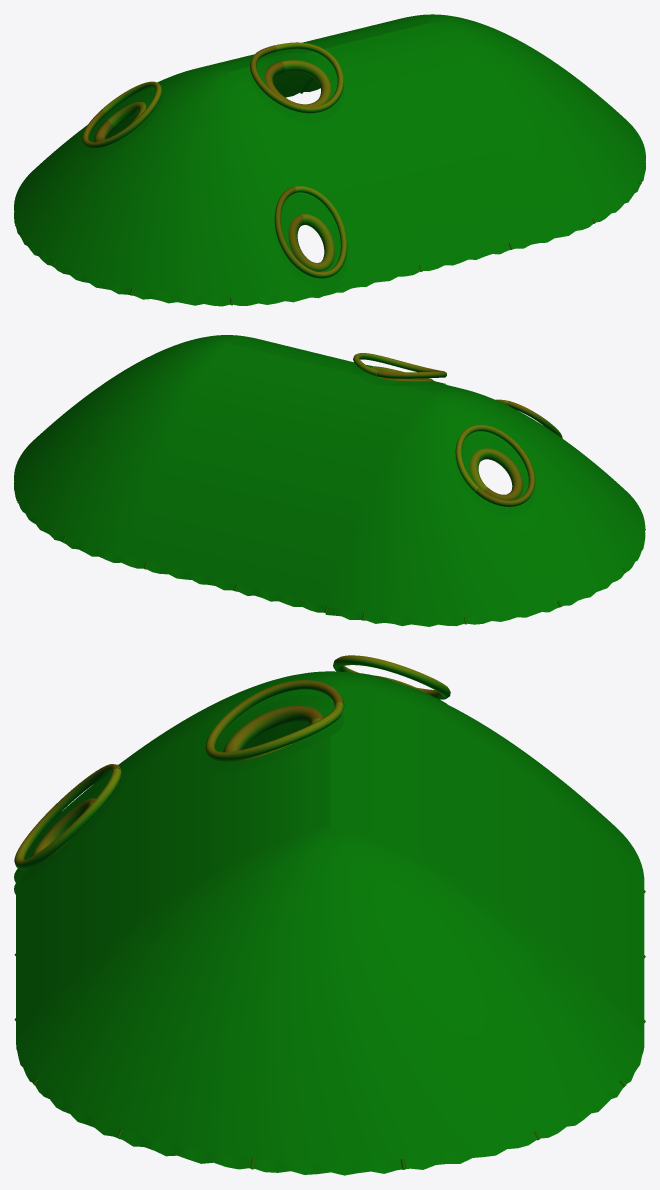
File: shrine_vault.glb
3 views of the same model, one above another, from view 1: azimuth 30°, elevation 25°; view 2: azimuth 150°, elevation 25°; view 3: azimuth 270°, elevation 25° (orthographic). The views are drawn at different scales.
Parts seen in each view (by area): view 1: shrine_vault; view 2: shrine_vault; view 3: shrine_vault.
Part boxes in pixels (x1,y1,x2,y2): shrine_vault: [14, 14, 645, 306]; shrine_vault: [14, 335, 645, 626]; shrine_vault: [14, 655, 645, 1175].
Size of what is drawn, in the model's own units: 28.01 by 7.31 by 18.1.
